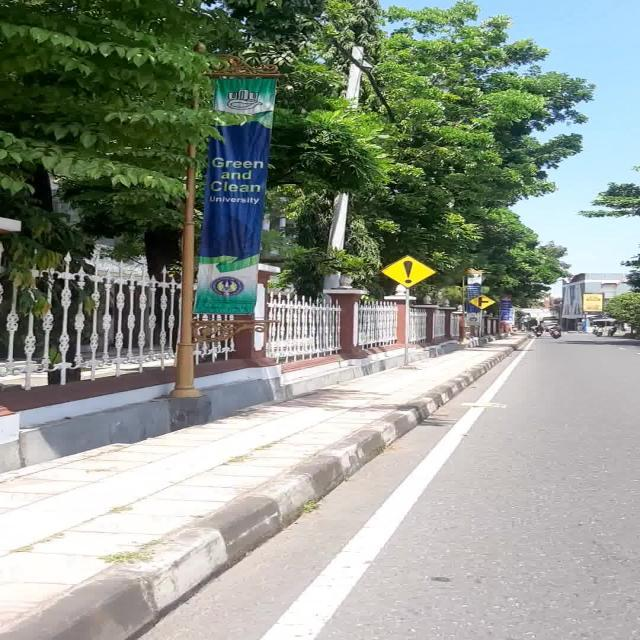Hati-Hati: (380, 254, 437, 288)
